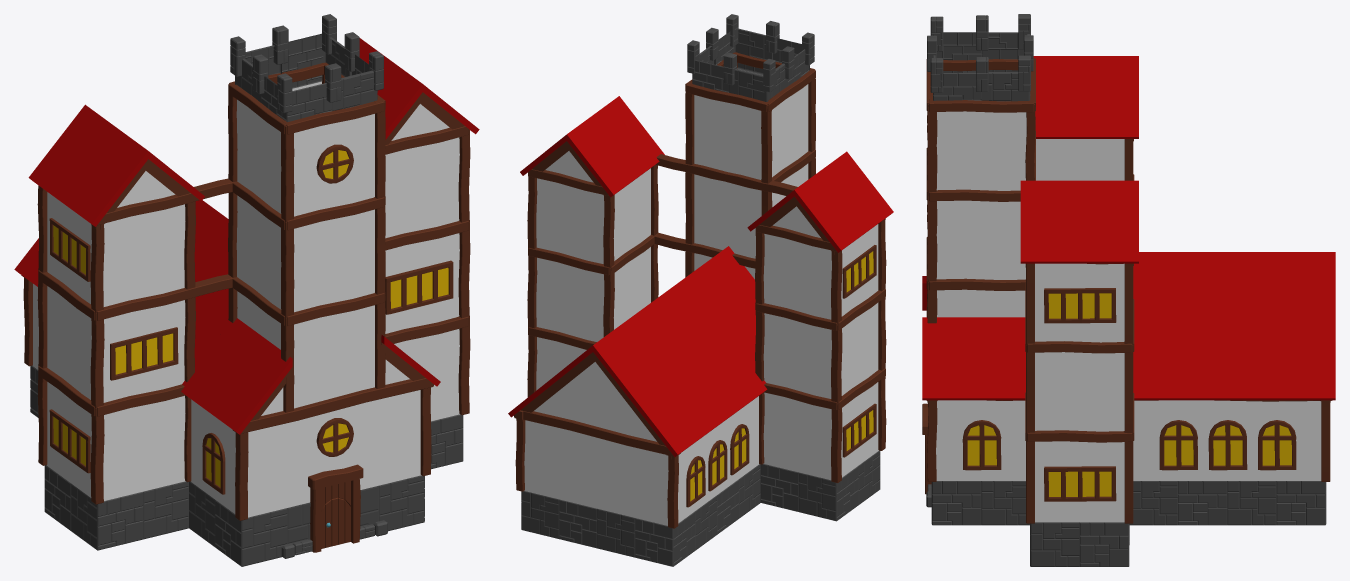
File: Full_House_9.fbx
3 renders of one model, left to right at view 1: azimuth 30°, elevation 25°; view 2: azimuth 150°, elevation 25°; view 3: azimuth 270°, elevation 25°, orthographic. The views are drawn at different scales.
Visible parts, largest first — view 1: Stone_Wall_LOD0, Wall_small (×4), Wall_small20, Wall_small31, Wall_small29, Wall_small24, Window_Large (×3), Wall_small34, Roof_Edge7, Roof_Edge8, Wall_small17, Wall_small21 (+63 smaller); view 2: Stone_Wall_LOD0, Wall_Large (×2), Wall_small (×3), Wall_small18, Wall_small25, Wall_small15, Wall_small36, Wall_small22, Wall_small37, Roof_Edge_7, Roof_Edge_11, Roof_Edge_1 (+57 smaller); view 3: Stone_Wall_LOD0, Wall_small (×2), Wall_Large, Wall_small23, Wall_small35, Wall_small32, Window_Large8 (×2), Roof_Edge, Roof_Edge_10, Roof_Edge9, Roof_Edge_9, Roof_Edge6 (+30 smaller).
Boxes of the visible parts, x1=… form: Stone_Wall_LOD0: x1=30, y1=33, x2=463, y2=566; Wall_small (×4): x1=46, y1=329, x2=459, y2=513; Wall_small20: x1=103, y1=204, x2=185, y2=306; Wall_small31: x1=294, y1=209, x2=374, y2=312; Wall_small29: x1=294, y1=305, x2=374, y2=408; Wall_small24: x1=385, y1=137, x2=459, y2=238; Window_Large (×3): x1=49, y1=218, x2=178, y2=473; Wall_small34: x1=294, y1=114, x2=374, y2=216; Roof_Edge7: x1=60, y1=128, x2=148, y2=229; Roof_Edge8: x1=204, y1=335, x2=292, y2=436; Wall_small17: x1=103, y1=300, x2=185, y2=402; Wall_small21: x1=385, y1=233, x2=459, y2=333; Stone_Wall_LOD0: x1=521, y1=28, x2=880, y2=566; Wall_Large (×2): x1=524, y1=396, x2=758, y2=525; Wall_small (×3): x1=536, y1=337, x2=878, y2=480; Wall_small18: x1=763, y1=234, x2=831, y2=319; Wall_small25: x1=536, y1=178, x2=604, y2=263; Wall_small15: x1=763, y1=313, x2=831, y2=398; Wall_small36: x1=694, y1=95, x2=761, y2=179; Wall_small22: x1=536, y1=257, x2=604, y2=341; Wall_small37: x1=694, y1=174, x2=761, y2=258; Roof_Edge_7: x1=794, y1=171, x2=867, y2=254; Roof_Edge_11: x1=566, y1=115, x2=639, y2=198; Roof_Edge_1: x1=631, y1=375, x2=703, y2=458; Stone_Wall_LOD0: x1=931, y1=32, x2=1326, y2=566; Wall_small (×2): x1=936, y1=400, x2=1124, y2=522; Wall_Large: x1=1133, y1=400, x2=1321, y2=480; Wall_small23: x1=1035, y1=352, x2=1124, y2=431; Wall_small35: x1=936, y1=111, x2=1026, y2=190; Wall_small32: x1=936, y1=200, x2=1025, y2=279; Window_Large8 (×2): x1=1044, y1=288, x2=1116, y2=501; Roof_Edge: x1=1276, y1=317, x2=1335, y2=402; Roof_Edge_10: x1=1020, y1=180, x2=1079, y2=265; Roof_Edge9: x1=1079, y1=180, x2=1138, y2=265; Roof_Edge_9: x1=922, y1=317, x2=981, y2=402; Roof_Edge6: x1=1079, y1=56, x2=1138, y2=141.
Size of what is drawn, in the model's own units: 0.0848 by 0.1004 by 0.084.
